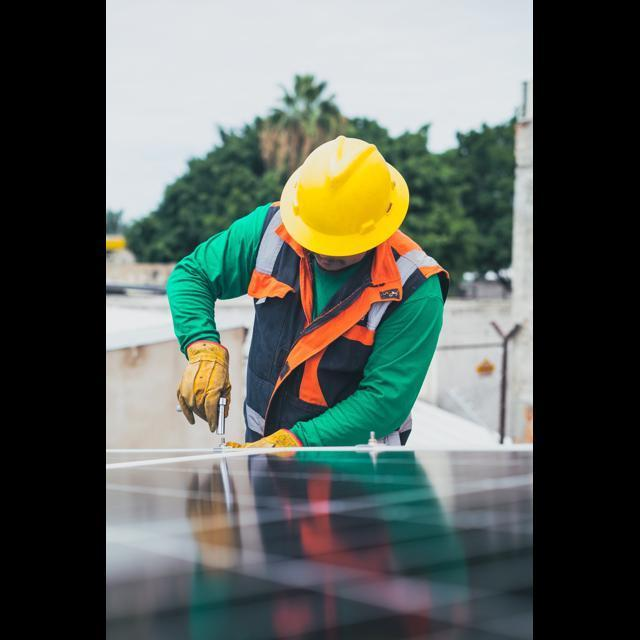Capacete: (280, 136, 408, 255)
Colete: (244, 203, 447, 434)
Pessoa: (167, 136, 447, 446)
